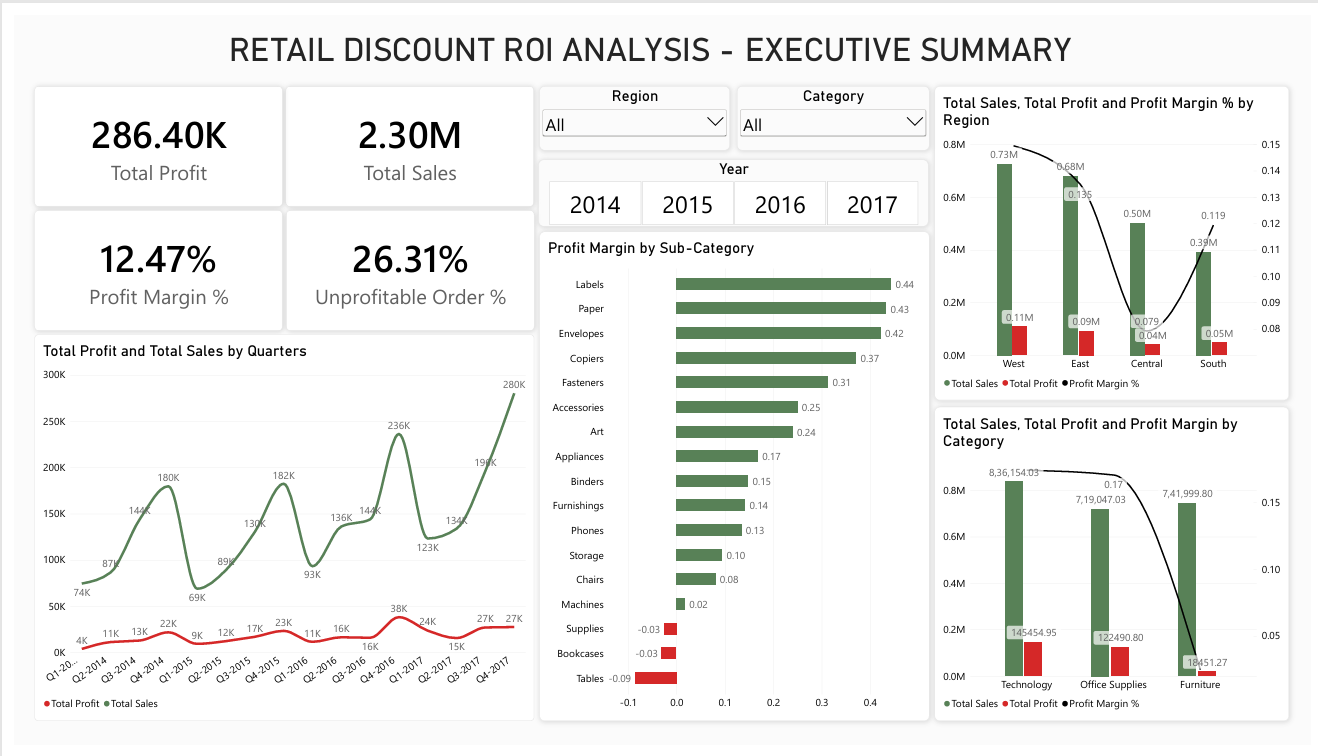

This screenshot's page, from the dashboard's own definition file:
{"tool":"powerbi","page":{"name":"Page 1","canvas":[2560,1440],"ordinal":0},"visuals":[{"type":"cardVisual","fields":{"Data":["tbl_Measures.Total Sales"]},"box":[536.2,140,490,238],"z":0},{"type":"cardVisual","fields":{"Data":["tbl_Measures.Total Profit"]},"box":[40,140,490,238],"z":1000},{"type":"cardVisual","fields":{"Data":["tbl_Measures.Profit Margin %"]},"box":[40,385,490,238.3],"z":2000},{"type":"cardVisual","fields":{"Data":["tbl_Measures.Unprofitable Order %"]},"box":[536.7,385,490,238],"z":3000},{"type":"slicer","title":"Year","fields":{"Values":["date_dim.Date.Variation.Date Hierarchy.Year"]},"box":[1034.5,284.5,770.9,132.7],"z":4000},{"type":"clusteredBarChart","title":"Profit Margin by Sub-Category","fields":{"Category":["superstore_cleaned.Sub-Category"],"Y":["tbl_Measures.Profit Margin %"]},"box":[1037.3,427.3,770,965.5],"z":5000},{"type":"lineClusteredColumnComboChart","title":"Total Sales, Total Profit and Profit Margin by Category","fields":{"Category":["superstore_cleaned.Category"],"Y":["tbl_Measures.Total Sales","tbl_Measures.Total Profit"],"Y2":["tbl_Measures.Profit Margin %"]},"box":[1816.7,773.3,700,620],"z":6000},{"type":"lineClusteredColumnComboChart","fields":{"Category":["superstore_cleaned.Region"],"Y":["tbl_Measures.Total Sales","tbl_Measures.Total Profit"],"Y2":["tbl_Measures.Profit Margin %"]},"box":[1816.7,140,700,620],"z":7000},{"type":"lineChart","fields":{"Category":["date_dim.Quarters"],"Y":["tbl_Measures.Total Profit","tbl_Measures.Total Sales"]},"box":[40,630,986.7,763.3],"z":8000},{"type":"slicer","title":"Region","fields":{"Values":["superstore_cleaned.Region"]},"box":[1036.7,140,376.7,126.7],"z":9000},{"type":"slicer","title":"Category","fields":{"Values":["superstore_cleaned.Category"]},"box":[1426.7,140,380,126.7],"z":10000},{"type":"textbox","box":[346.7,30,1820,80],"z":10001}]}

Visuals, with their boxes in screenshot pixels (x1, y1, x2, y2), scaled from the page's 2560x1440 canvas onto the 1318x756 screenshot:
cardVisual - tbl_Measures.Total Sales: <bbox>276, 74, 528, 198</bbox>
cardVisual - tbl_Measures.Total Profit: <bbox>21, 74, 273, 198</bbox>
cardVisual - tbl_Measures.Profit Margin %: <bbox>21, 202, 273, 327</bbox>
cardVisual - tbl_Measures.Unprofitable Order %: <bbox>276, 202, 529, 327</bbox>
"Year" slicer: <bbox>533, 149, 929, 219</bbox>
"Profit Margin by Sub-Category" clusteredBarChart: <bbox>534, 224, 930, 731</bbox>
"Total Sales, Total Profit and Profit Margin by Category" lineClusteredColumnComboChart: <bbox>935, 406, 1296, 731</bbox>
lineClusteredColumnComboChart - superstore_cleaned.Region x tbl_Measures.Total Sales: <bbox>935, 74, 1296, 399</bbox>
lineChart - date_dim.Quarters x tbl_Measures.Total Profit: <bbox>21, 331, 529, 731</bbox>
"Region" slicer: <bbox>534, 74, 728, 140</bbox>
"Category" slicer: <bbox>735, 74, 930, 140</bbox>
textbox: <bbox>178, 16, 1116, 58</bbox>
